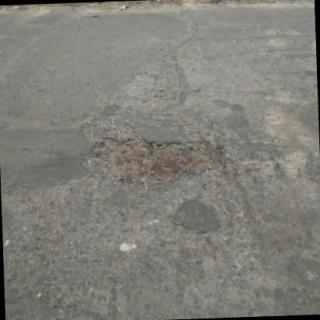pothole: (87, 136, 223, 185)
